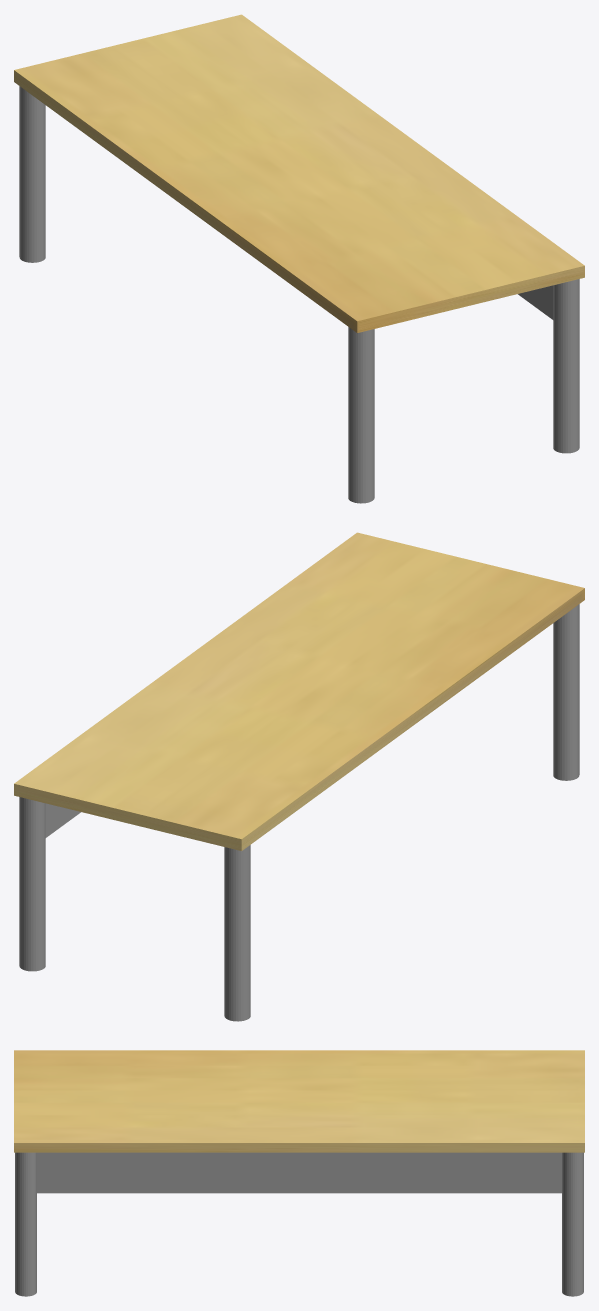
The model's file is longdesk.glb.
3 renders of one model, top to bottom at view 1: azimuth 30°, elevation 25°; view 2: azimuth 150°, elevation 25°; view 3: azimuth 270°, elevation 25°, orthographic. The views are drawn at different scales.
Visible parts, largest first — view 1: Cube, Cylinder.003, Cylinder.001, Cylinder, Cube.001; view 2: Cube, Cylinder, Cylinder.002, Cylinder.003, Cube.001; view 3: Cube, Cube.001, Cylinder.001, Cylinder.002.
Boxes of the visible parts, x1,y1,x2,y2 form: Cube: (14,14,584,332); Cylinder.003: (348,327,374,503); Cylinder.001: (553,279,579,453); Cylinder: (19,86,45,262); Cube.001: (518,285,553,319); Cube: (14,532,584,850); Cylinder: (224,845,250,1021); Cylinder.002: (19,797,45,971); Cylinder.003: (553,604,579,780); Cube.001: (45,803,80,837); Cube: (14,1050,584,1152); Cube.001: (37,1152,561,1193); Cylinder.001: (15,1152,36,1296); Cylinder.002: (562,1152,583,1296).
Bounding box in the file's own units: 2 × 1.55 × 5.22.
2 materials, 1 textured.
